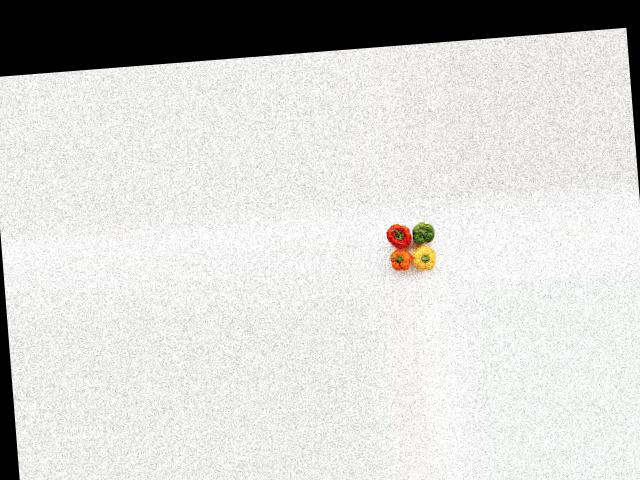bell_pepper: (406, 219, 442, 247)
